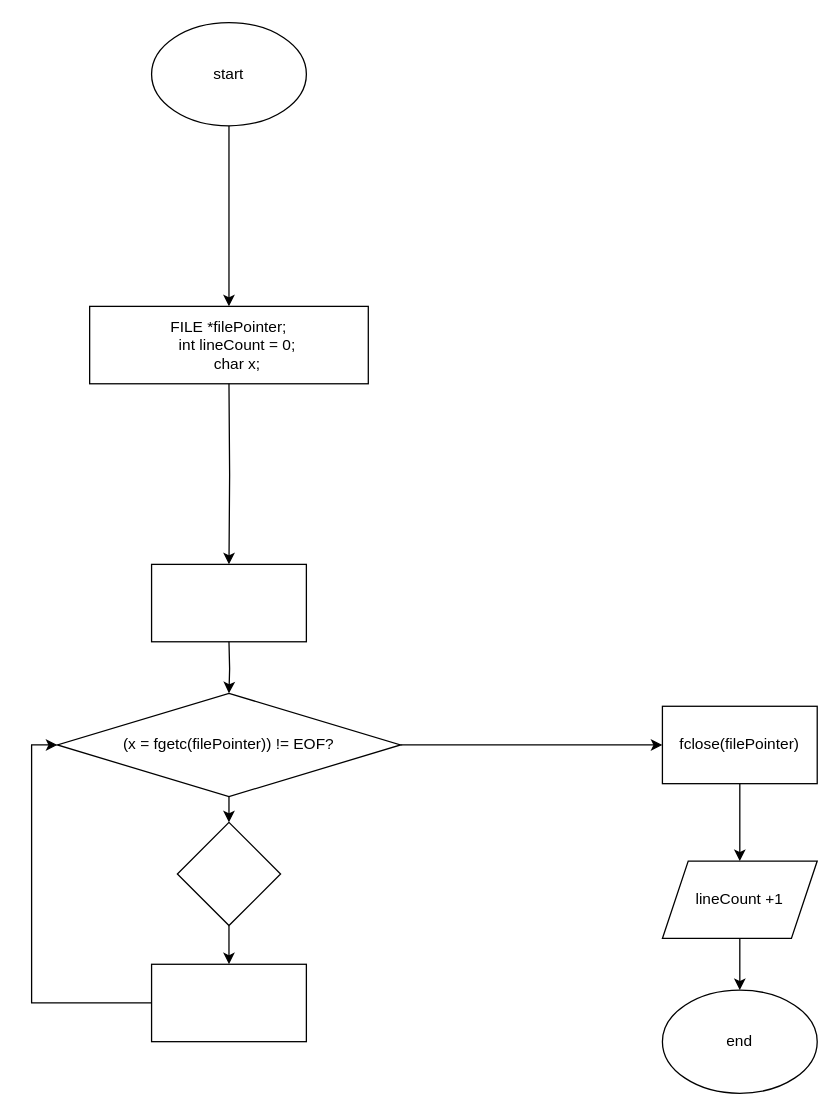
Image size: 840x1116. Some labels were removed from this diagram. The shapes that lost their labels are listed below. From the top down, each one's centre as x and y in pixels, then its label:
[228,602]: mo tep tin de doc kiem tra tep tin co mo duoc khong
[228,873]: x == '\n'?
[228,1002]: lineCount++
